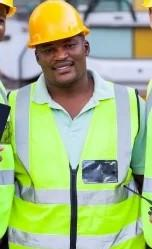hat: (24, 1, 110, 87), (1, 1, 22, 60)
vest: (14, 77, 144, 249), (1, 73, 25, 249), (135, 67, 152, 249)
